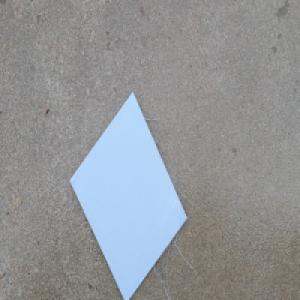PaintChip: (68, 91, 188, 300)
